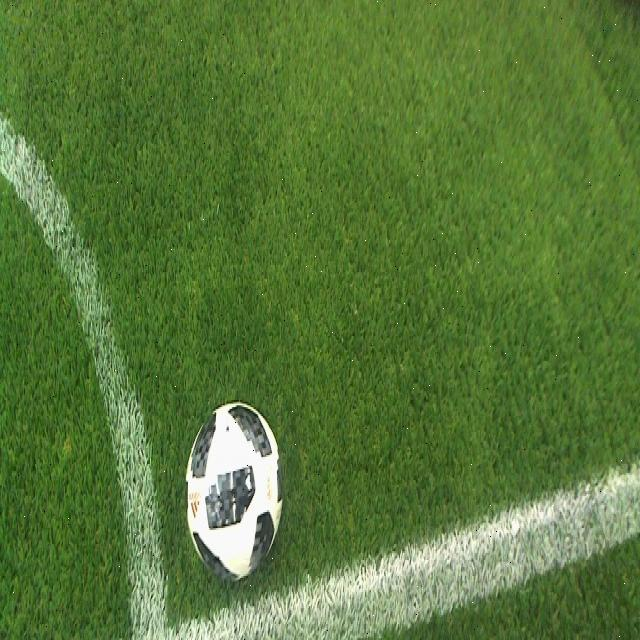ball: (184, 398, 284, 583)
